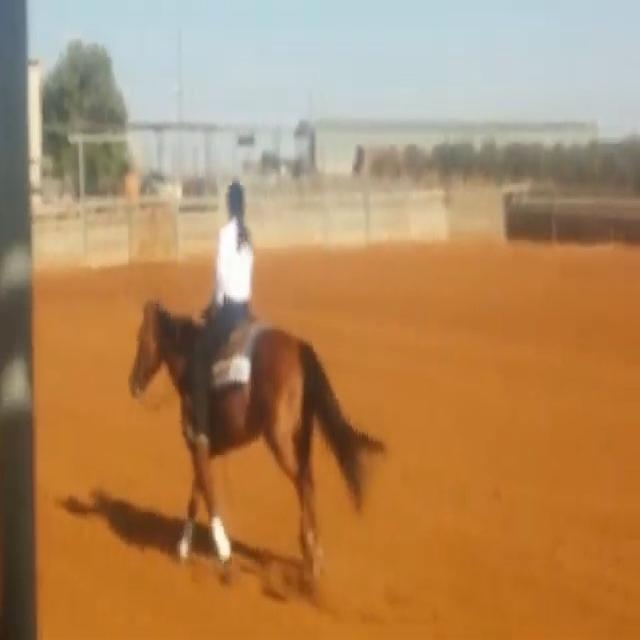horse: (126, 294, 386, 596)
